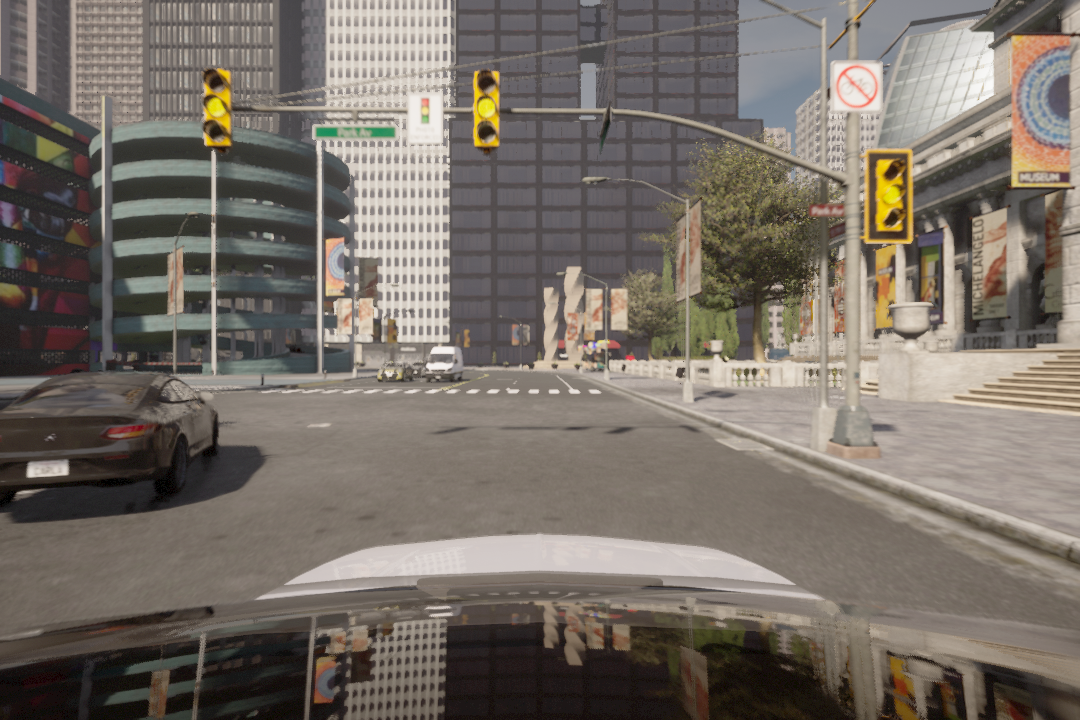TrafficLight: (869, 152, 912, 243), (204, 68, 231, 147), (476, 67, 502, 149)
TrafficSign: (833, 58, 885, 112)
walkside: (266, 385, 611, 395)
